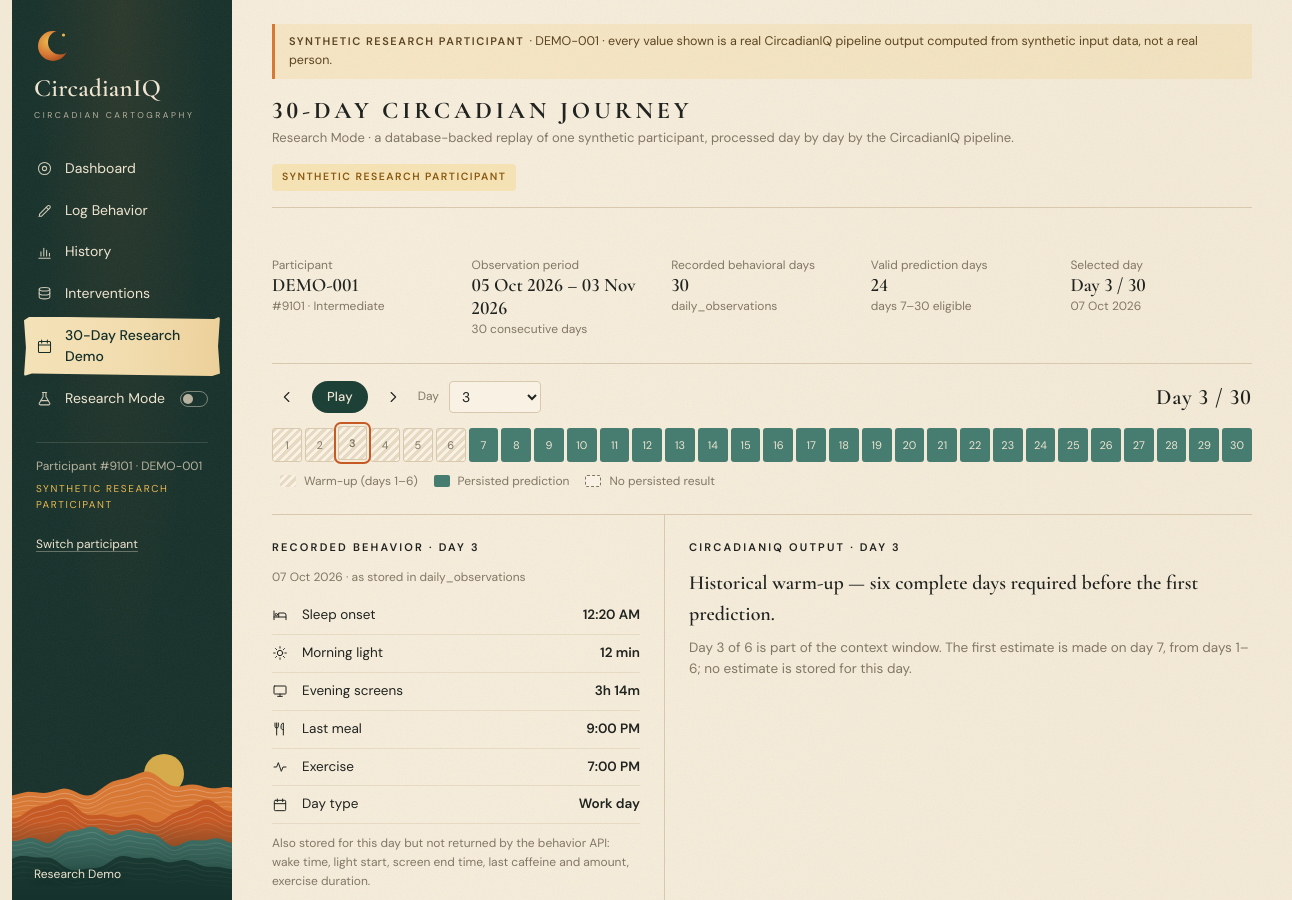
Scenario: 30-Day Research Demo › advances day by day with Play
Later steps or results of the test are not shown.
Expected: the 2nd text "Day 3 / 30" is shown, [1156,380,1252,414]
Step 1. Click the button "Play" → {"x": 340, "y": 397}, box [312,381,368,413]
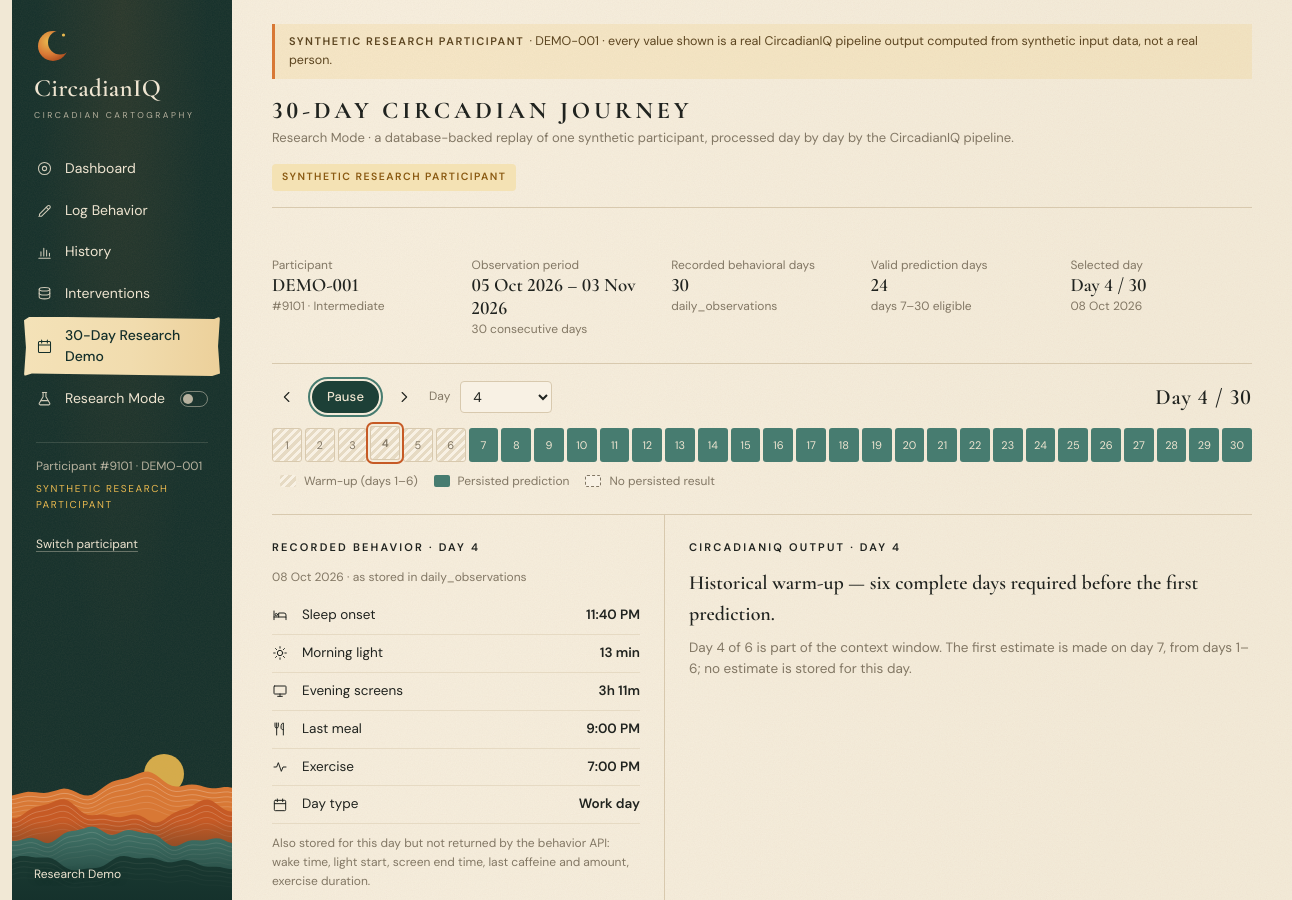
Expected: the 2nd text "Day 4 / 30" is shown, [1155,380,1252,414]
